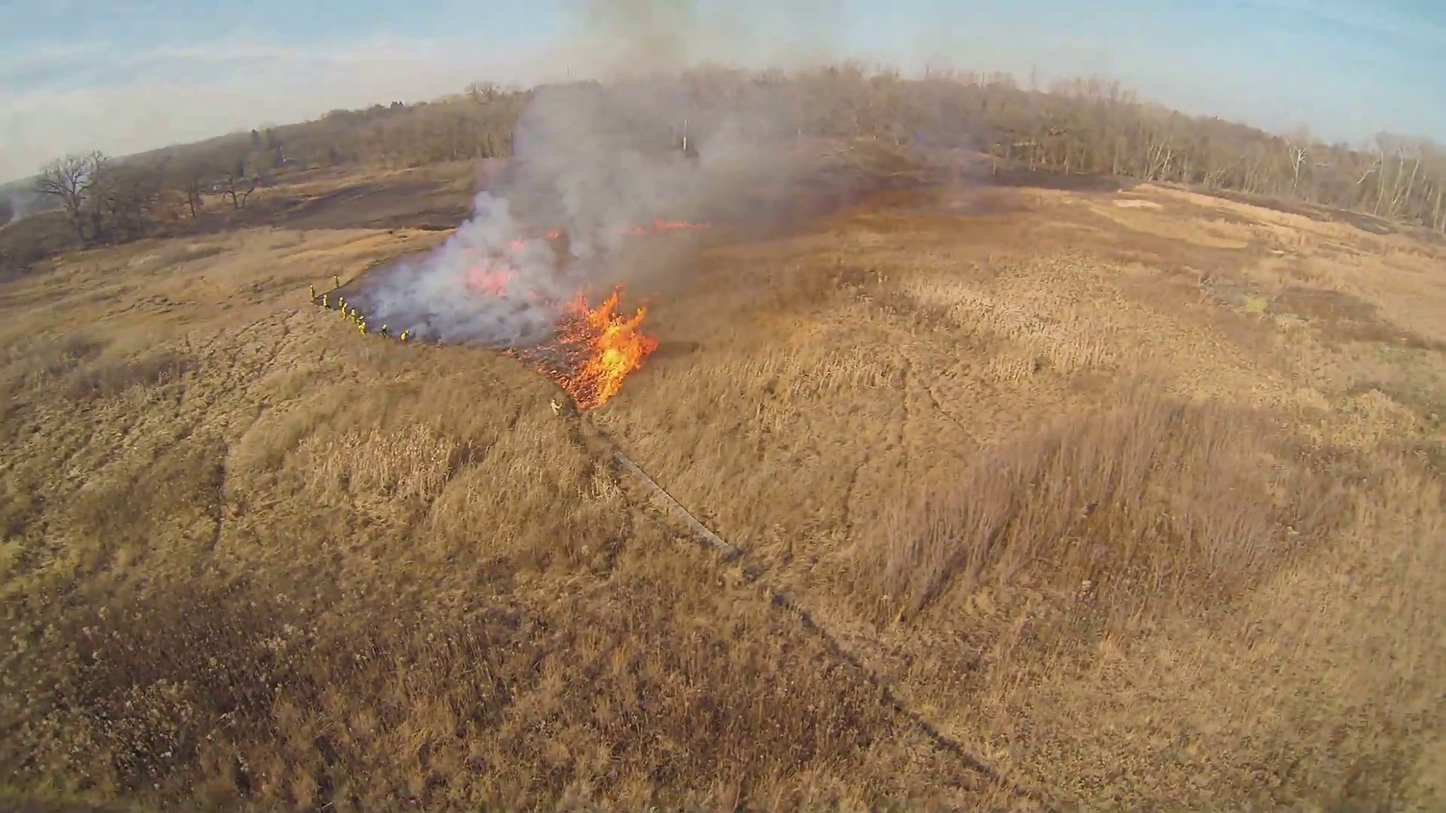forest_fire: (551, 288, 658, 408)
